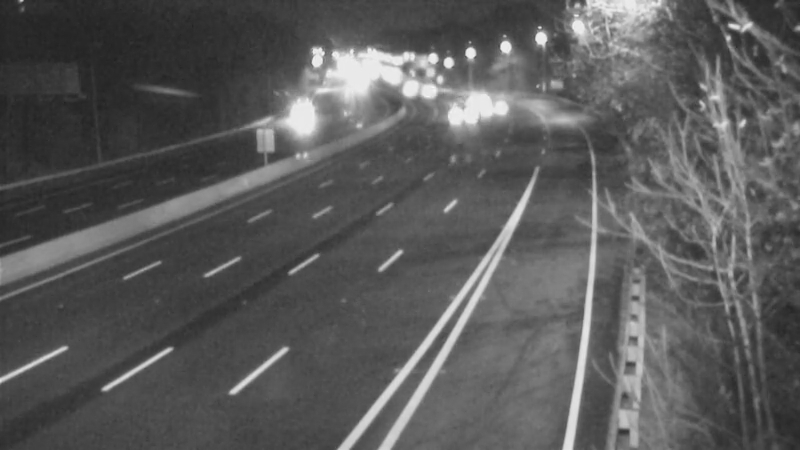vehicle: (398, 70, 448, 120), (446, 73, 496, 123), (476, 83, 526, 133), (435, 87, 485, 137), (273, 94, 323, 144)
